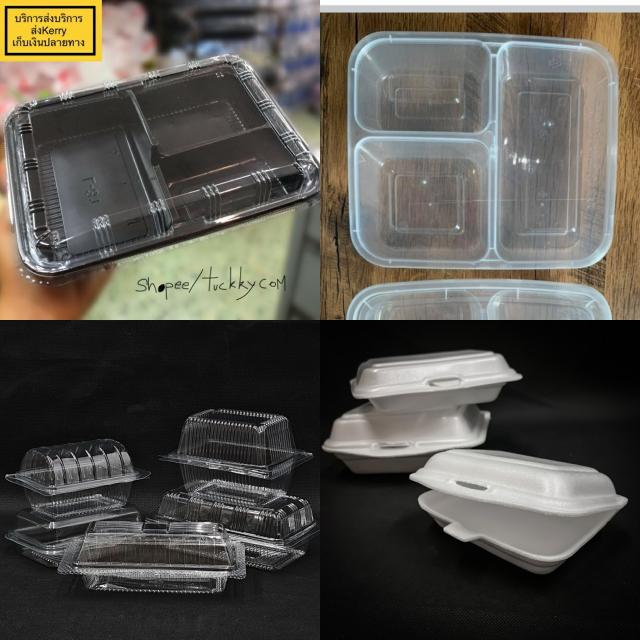Single-Use-Plastic: (5, 56, 319, 278), (348, 32, 618, 269), (410, 449, 626, 573), (158, 480, 319, 570), (161, 409, 312, 503), (59, 520, 245, 592), (322, 402, 490, 474), (6, 439, 149, 519), (350, 350, 522, 412)
